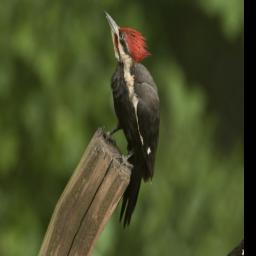Woodpecker: (42, 0, 203, 244)
